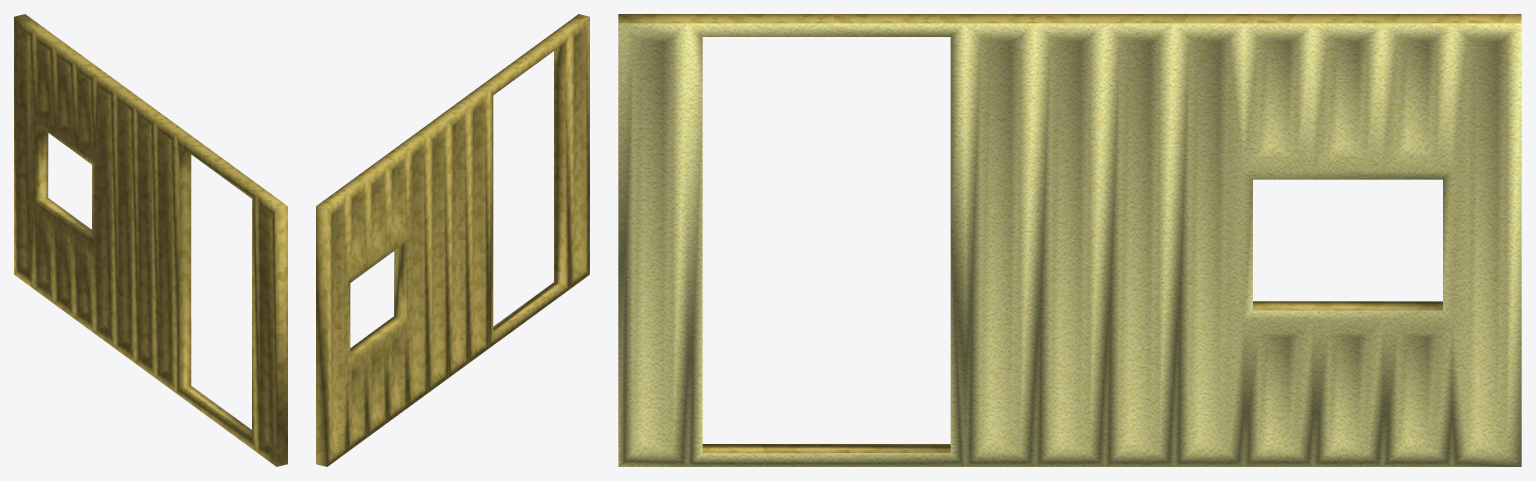
File: containerfrontwithtexture.obj
The picture shows the model from 3 angles, left to right: view 1: azimuth 30°, elevation 25°; view 2: azimuth 150°, elevation 25°; view 3: azimuth 270°, elevation 25°; orthographic projection. The views are drawn at different scales.
Parts seen in each view (by area): view 1: default; view 2: default; view 3: default.
Part boxes in pixels (x1,y1,x2,y2): default: (14,14,287,466); default: (316,14,589,466); default: (618,14,1521,466).
Bounding box in the file's own units: 11.88 × 260 × 480.
